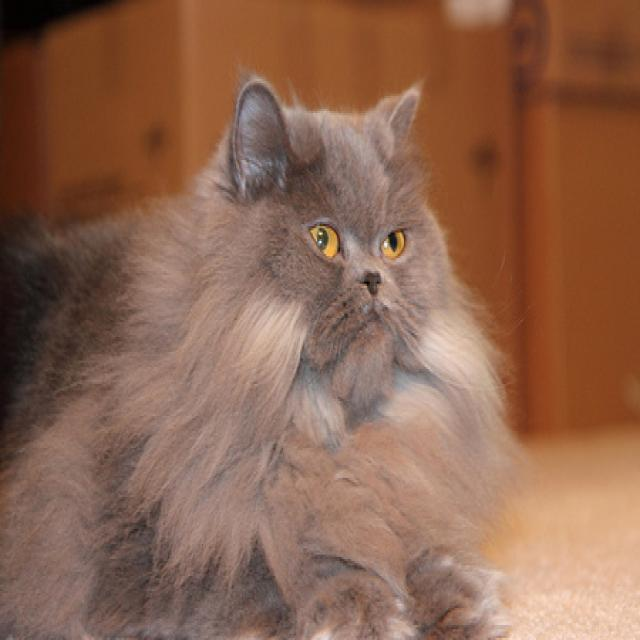Persian: (0, 66, 523, 640)
